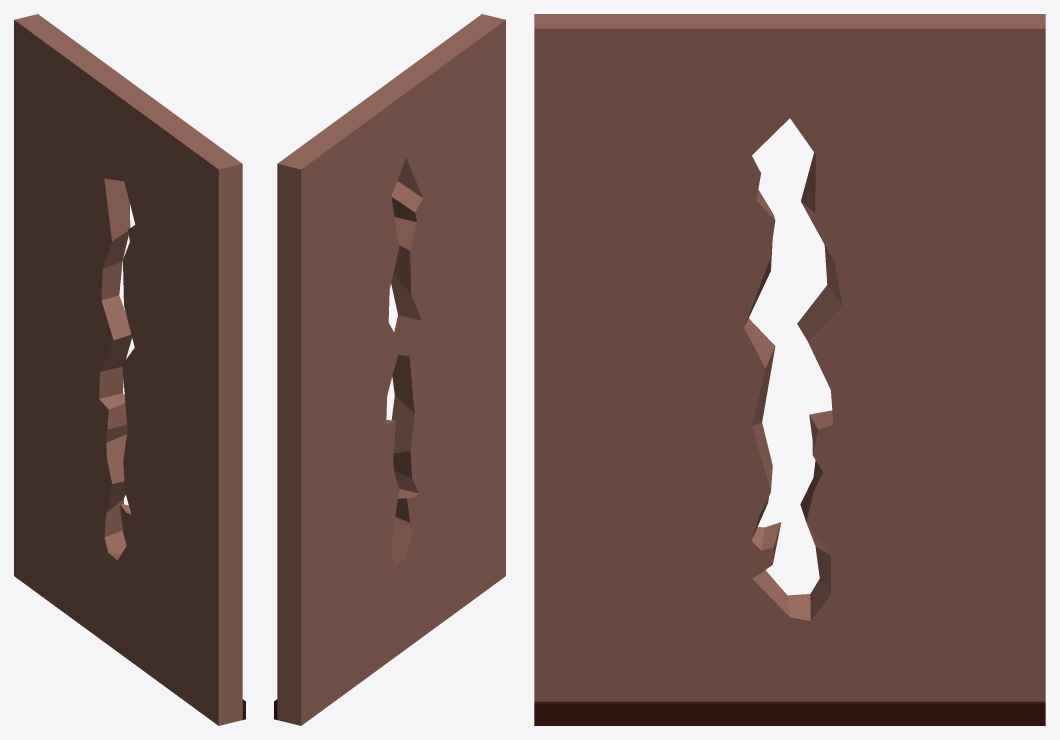
Rendered from T_MurDetruit_03.fbx.
3 renders of one model, left to right at view 1: azimuth 30°, elevation 25°; view 2: azimuth 150°, elevation 25°; view 3: azimuth 270°, elevation 25°, orthographic. The views are drawn at different scales.
Visible parts, largest first — view 1: T_MurDetruit_03; view 2: T_MurDetruit_03; view 3: T_MurDetruit_03.
Part boxes in pixels (left/top/right/bottom): T_MurDetruit_03: left=14, top=14, right=245, bottom=725; T_MurDetruit_03: left=274, top=14, right=505, bottom=725; T_MurDetruit_03: left=534, top=14, right=1045, bottom=725.
Size of the model in its own units: 15.31 by 300 by 200.
